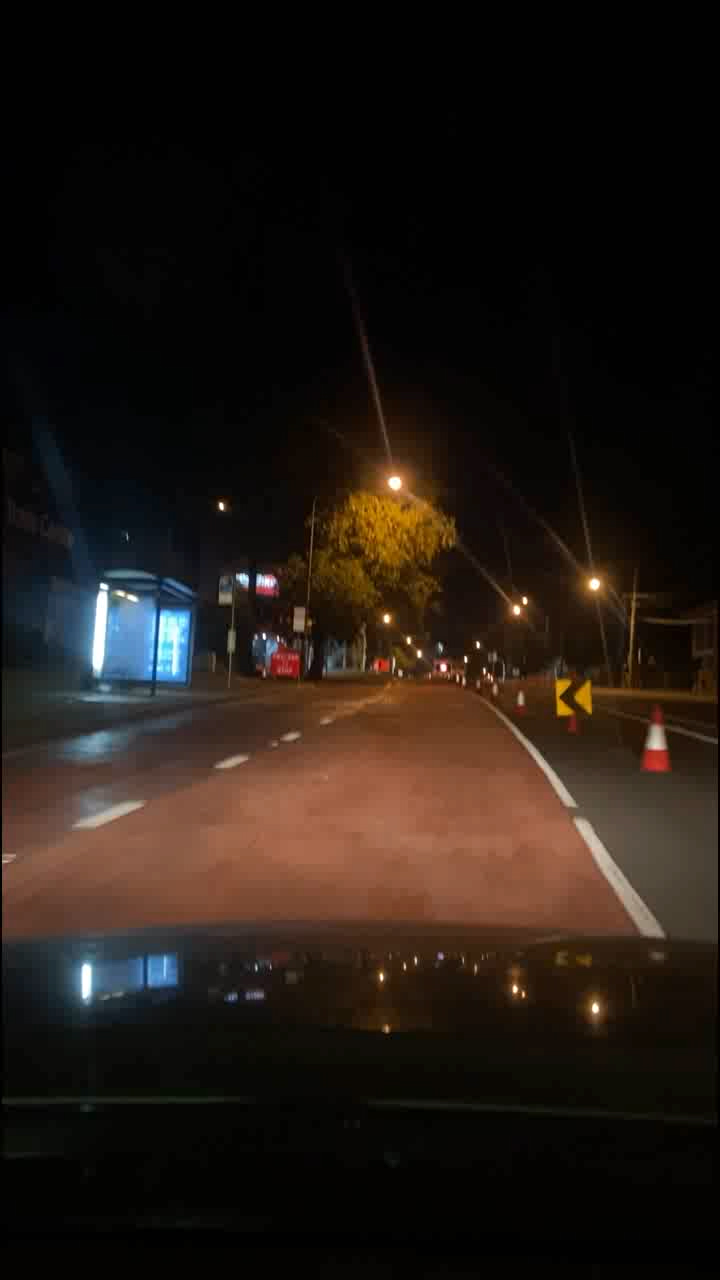prepare to stop board: (264, 650, 316, 679)
road cone: (643, 702, 681, 784)
road works sign board: (552, 679, 597, 729)
